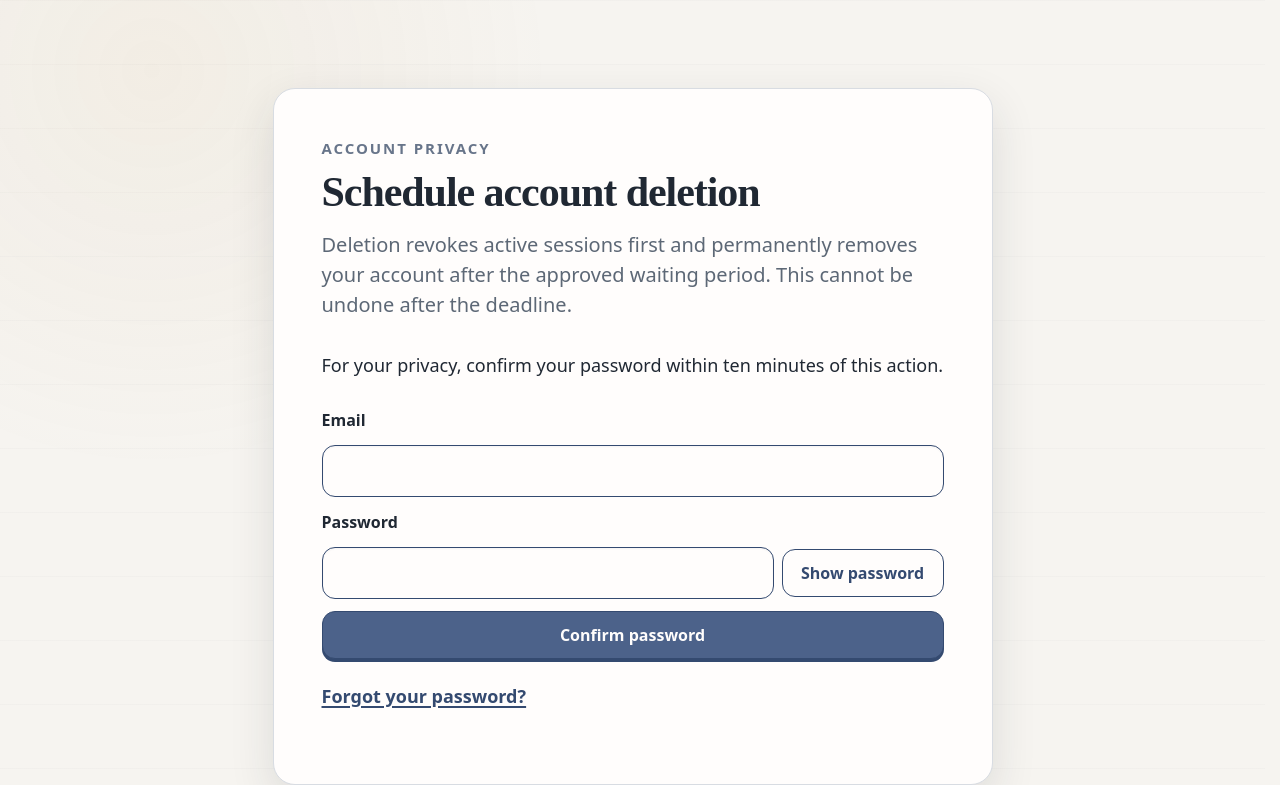
it: account lifecycle screens › requires an already-enrolled MFA factor and supports its recovery-code path
Type "owner@example.com" into the field labelled "Email" at (632, 471), box left=322, top=445, right=944, bottom=497
Type "private-password" into the password field labelled "Password" at (548, 573), box left=322, top=547, right=774, bottom=599
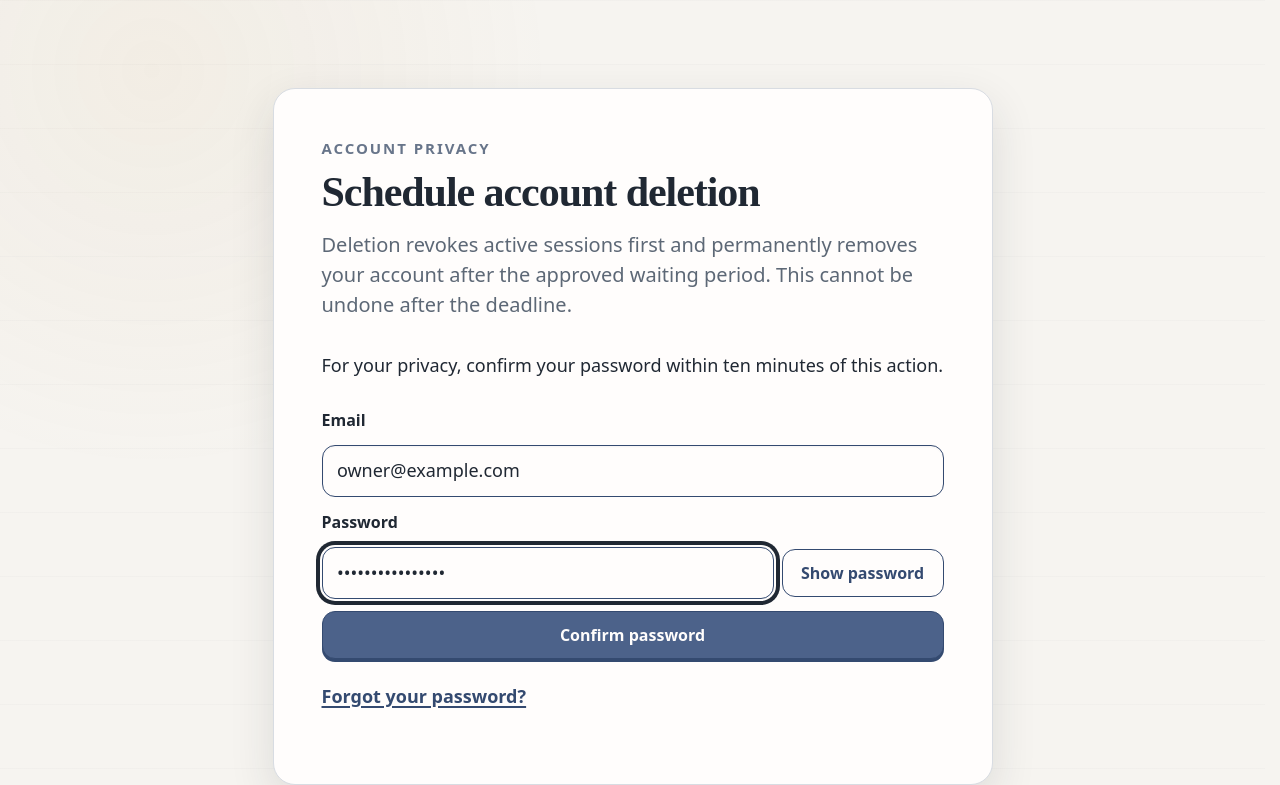
Click the button "Confirm password" at (632, 635), box left=322, top=611, right=944, bottom=659
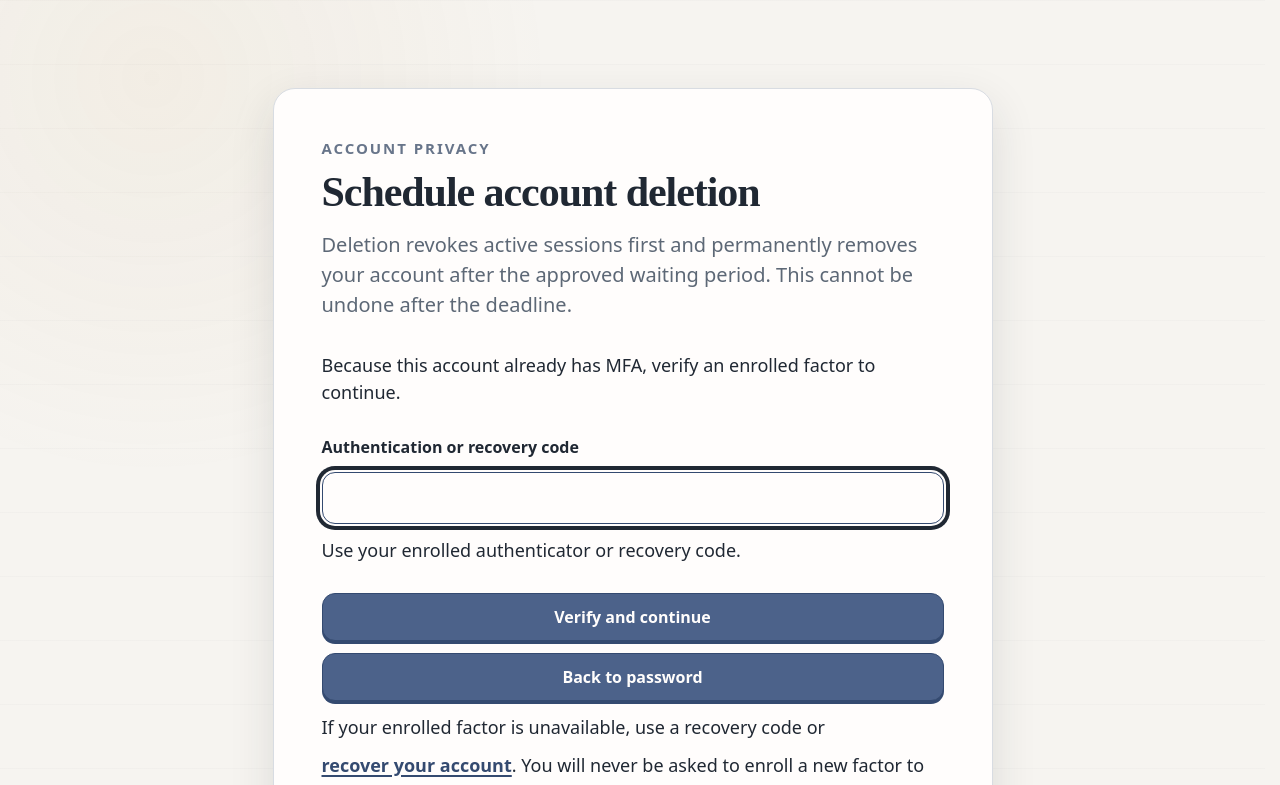
Check: the text "already has MFA" is shown, box left=322, top=353, right=875, bottom=404
Click the button "Back to password" at (632, 677), box left=322, top=653, right=944, bottom=701
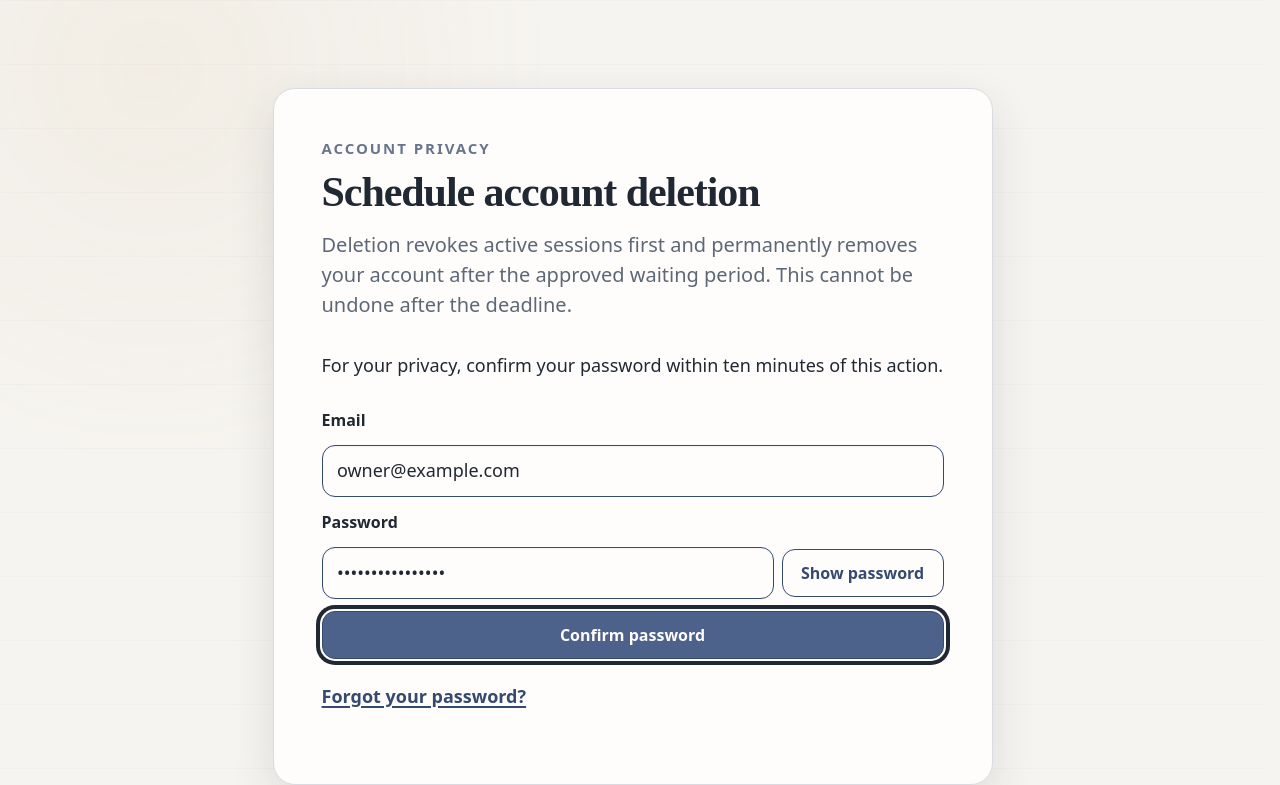
Click the button "Confirm password" at (632, 635), box left=322, top=611, right=944, bottom=659
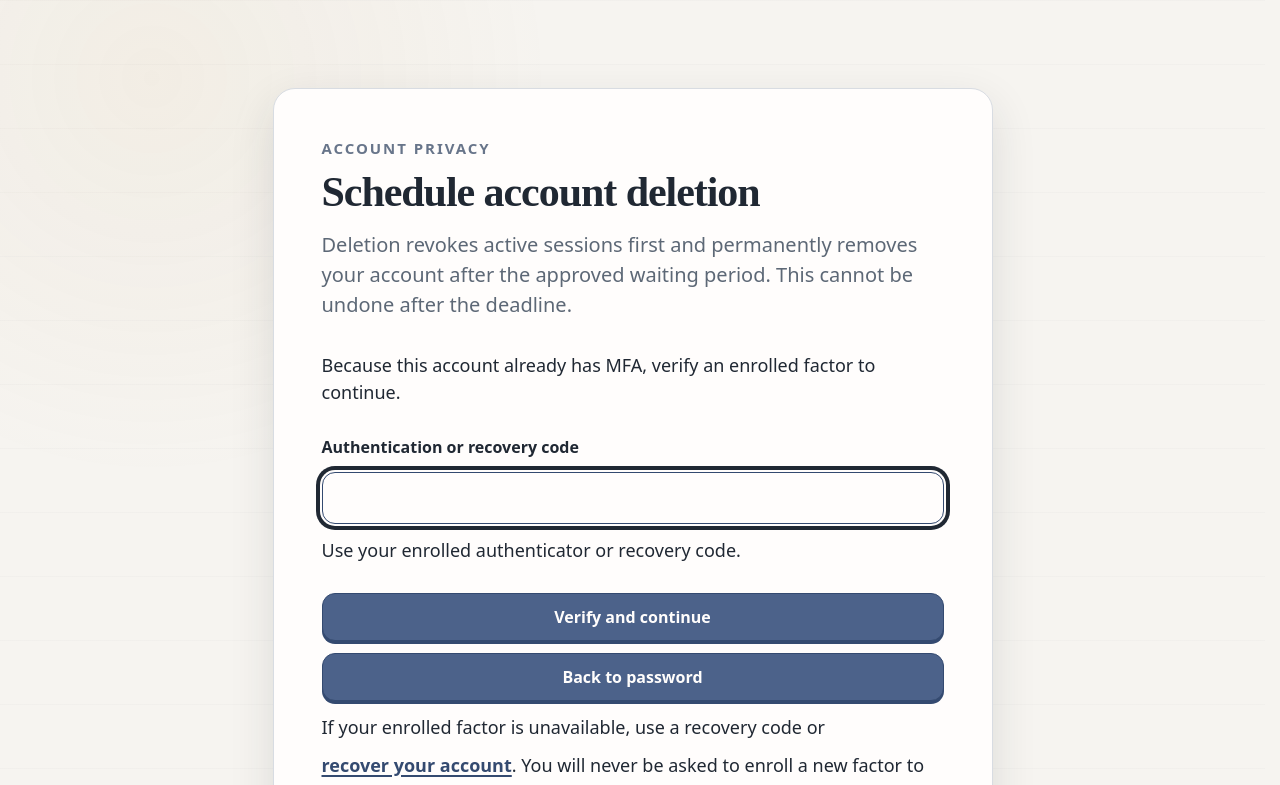
Type "12345678" into the field labelled "Authentication or recovery code" at (632, 498), box left=322, top=472, right=944, bottom=524
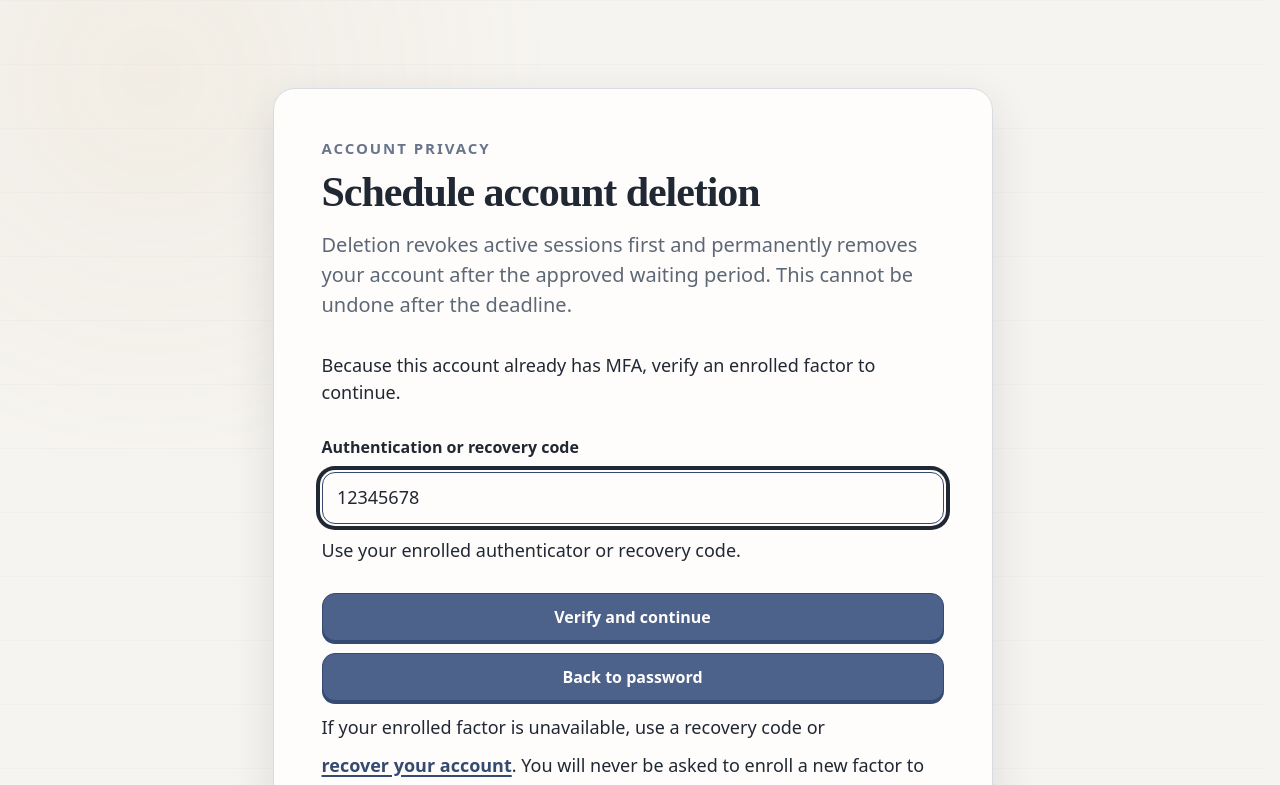
Click the button "Verify and continue" at (632, 617), box left=322, top=593, right=944, bottom=641
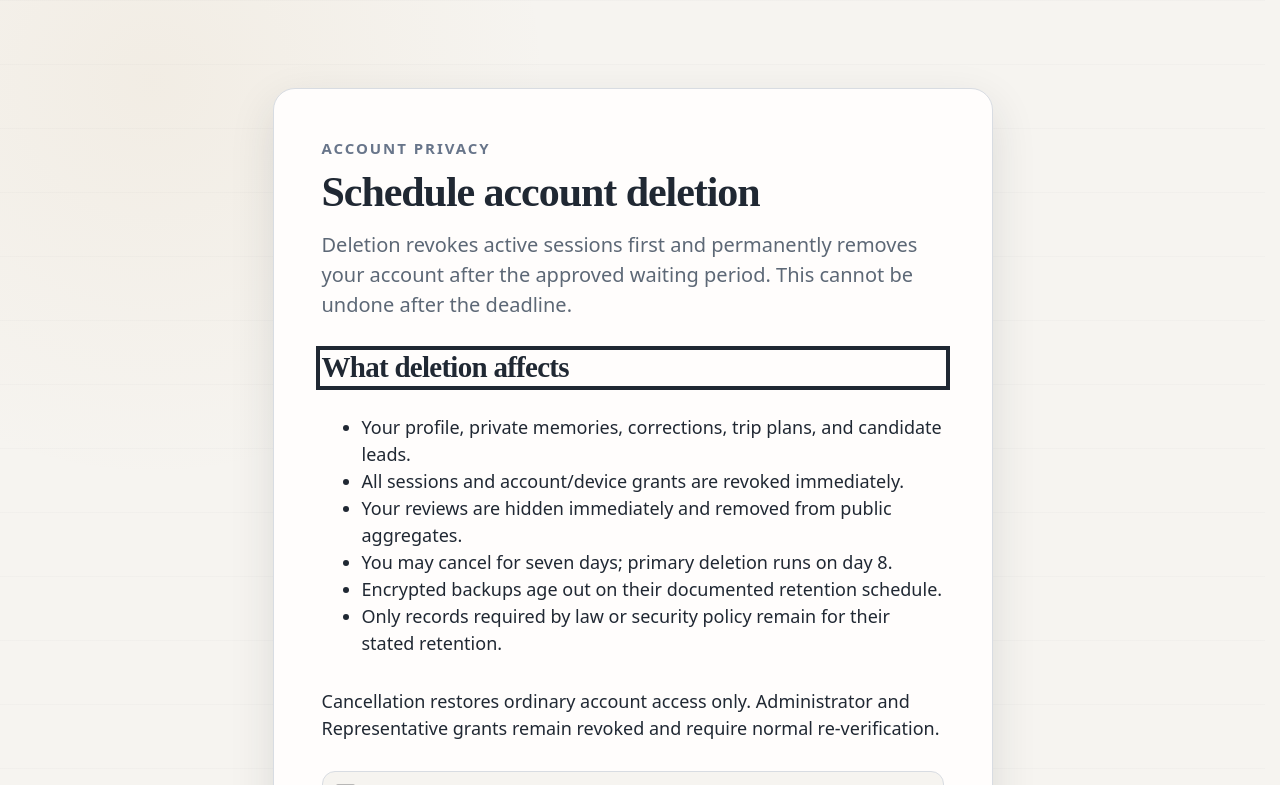
Check: the heading "What deletion affects" is shown, box left=322, top=352, right=944, bottom=384
Check: the text "Cancellation restores ordinary account access only" is shown, box left=322, top=689, right=940, bottom=740
